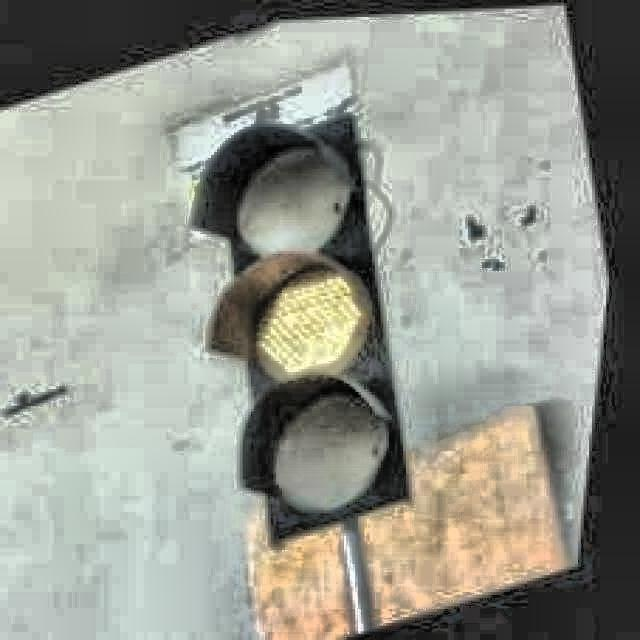yellow: (253, 111, 408, 536)
